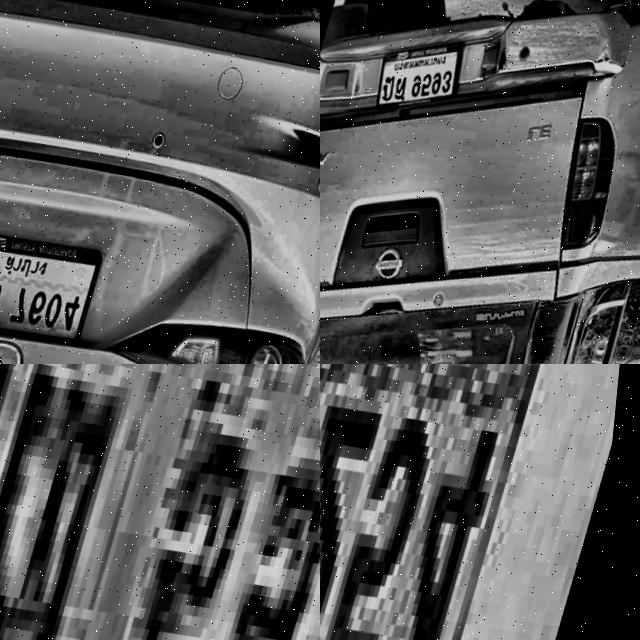license-plate: (0, 364, 320, 640), (320, 364, 640, 640), (0, 222, 113, 356), (367, 20, 479, 127)
